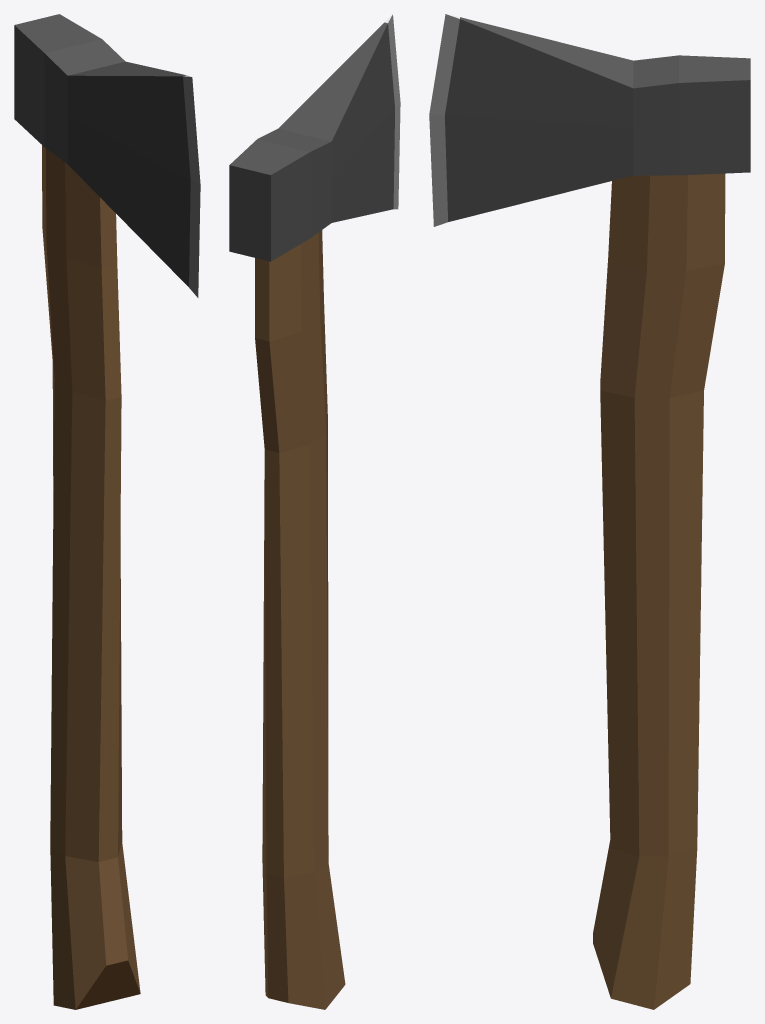
Rendered from axe_4.fbx.
3 renders of one model, left to right at view 1: azimuth 30°, elevation 25°; view 2: azimuth 150°, elevation 25°; view 3: azimuth 270°, elevation 25°, orthographic. The views are drawn at different scales.
Visible parts, largest first — view 1: axe_4; view 2: axe_4; view 3: axe_4.
Boxes of the visible parts, x1,y1,x2,y2 form: axe_4: [14, 14, 200, 1009]; axe_4: [229, 14, 400, 1009]; axe_4: [429, 14, 750, 1009].
Bounding box in the file's own units: 7.36 × 108 × 32.08.
Materials: 1 (1 with a texture image).
